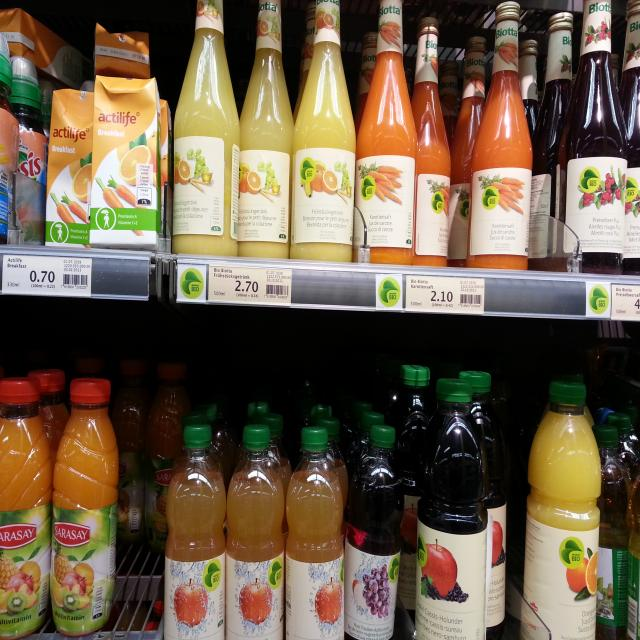Juices: (44, 376, 119, 638), (526, 379, 600, 640), (415, 373, 485, 640), (465, 0, 533, 273), (564, 0, 628, 275), (171, 0, 237, 260), (291, 0, 355, 259), (355, 0, 414, 263), (238, 0, 294, 261), (225, 423, 285, 640), (166, 417, 224, 640), (285, 426, 344, 640), (0, 374, 47, 640), (91, 74, 162, 248), (346, 424, 403, 640), (416, 17, 452, 268), (46, 91, 93, 250)
